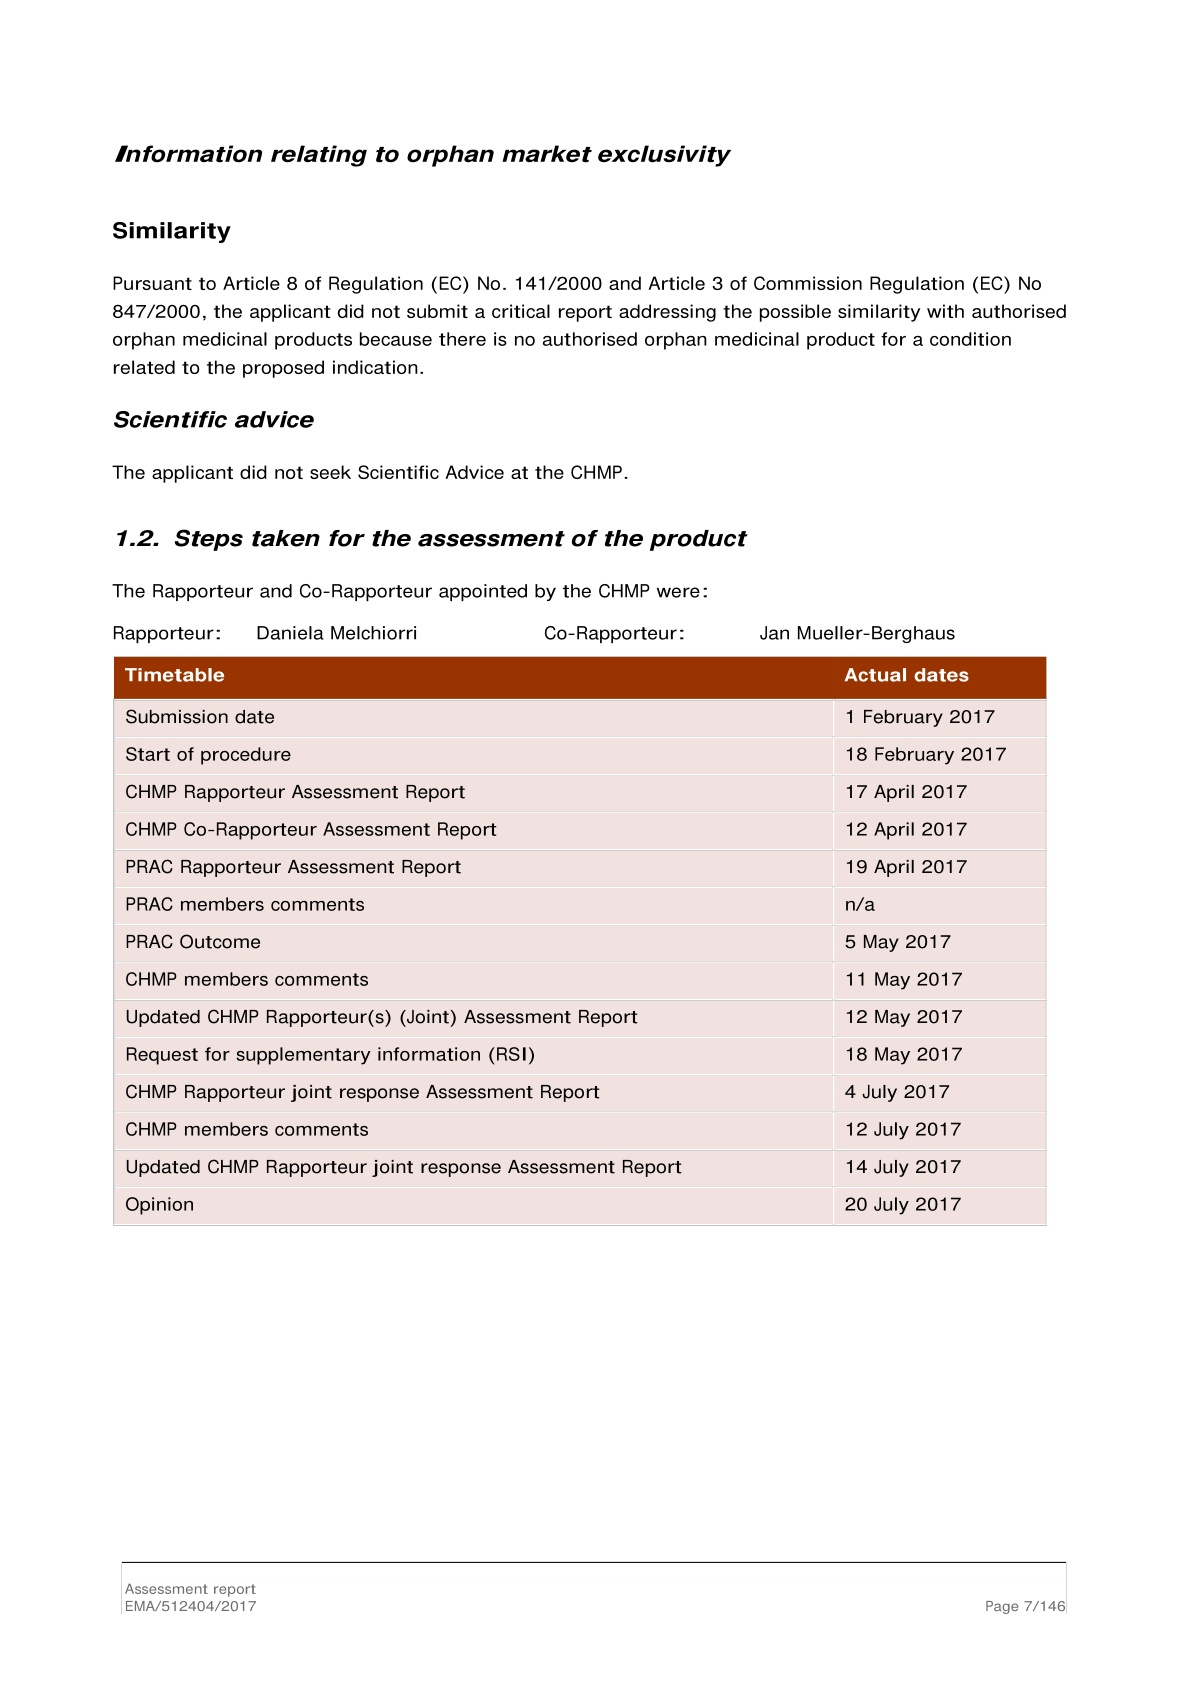full_lined: (113, 656, 1048, 1227)
